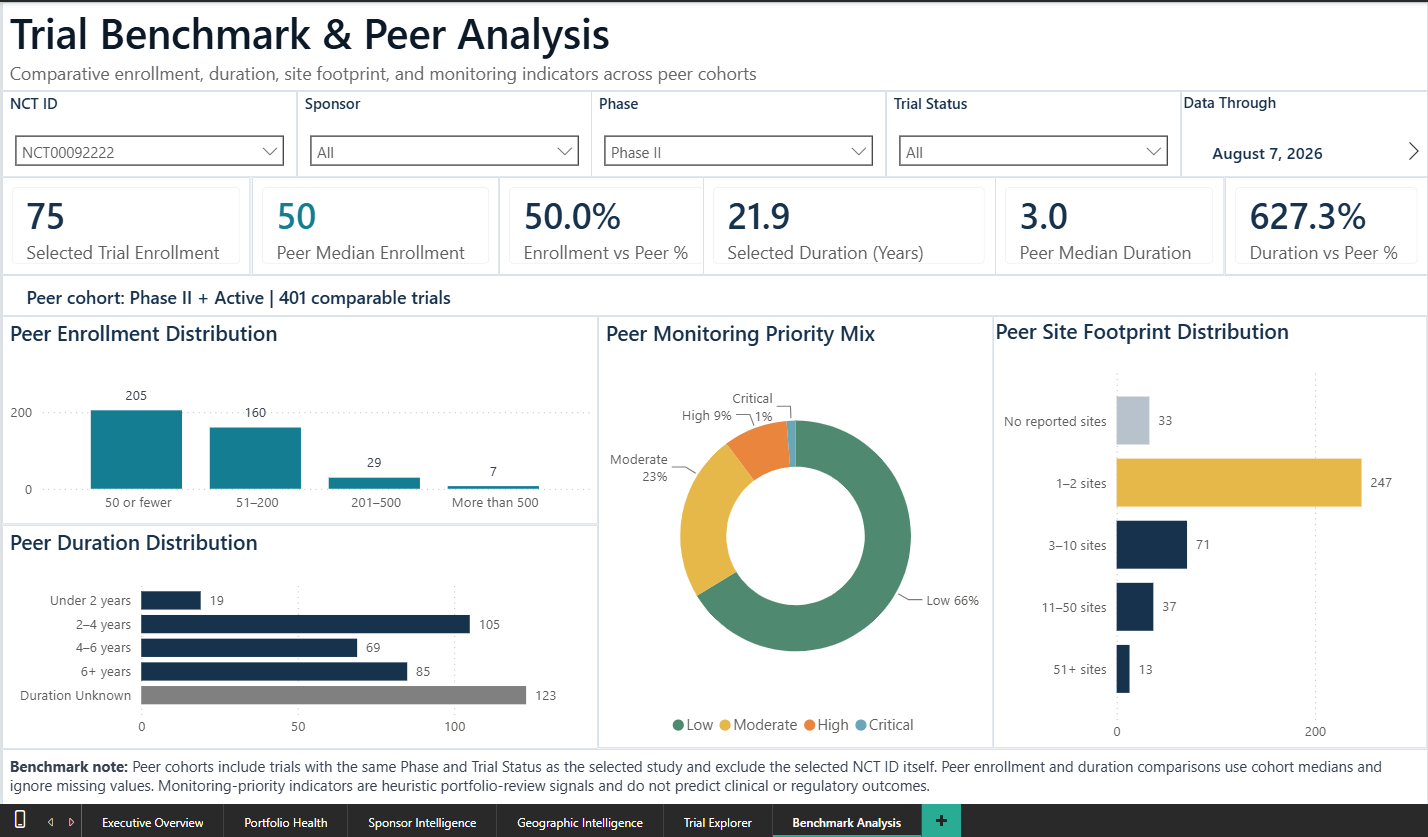

The dashboard page shown, as its layout file describes it:
{"tool":"powerbi","page":{"name":"Benchmark Analysis","canvas":[1280,720],"ordinal":5},"visuals":[{"type":"cardVisual","fields":{"Data":["_Measures.Selected Trial Enrollment"]},"box":[0,157.3,223.4,87.5],"z":0},{"type":"cardVisual","fields":{"Data":["_Measures.Peer Median Enrollment"]},"box":[224.3,157.3,222.5,87.5],"z":1000},{"type":"cardVisual","fields":{"Data":["_Measures.Enrollment vs Peer %"]},"box":[445.9,157.3,194.6,87.5],"z":2000},{"type":"cardVisual","fields":{"Data":["_Measures.Selected Trial Duration Display"]},"box":[629.3,157.3,262.5,87.5],"z":3000},{"type":"cardVisual","fields":{"Data":["_Measures.Peer Median Duration"]},"box":[891.8,157.3,205.7,87.5],"z":4000},{"type":"cardVisual","fields":{"Data":["_Measures.Duration vs Peer %"]},"box":[1097.5,157.3,182.5,87.5],"z":5000},{"type":"clusteredColumnChart","title":"Peer Enrollment Distribution","fields":{"Category":["PeerEnrollmentBands.Enrollment Band"],"Y":["_Measures.Peer Enrollment Band Count"]},"box":[0,282.1,535.3,187.1],"z":6000},{"type":"clusteredBarChart","title":"Peer Duration Distribution","fields":{"Y":["_Measures.Peer Duration Band Count"],"Category":["PeerDurationBands.Duration Band"]},"box":[0,469.2,535.3,201.1],"z":7000},{"type":"donutChart","title":"Peer Monitoring Priority Mix","fields":{"Category":["PeerPriority.Priority"],"Y":["_Measures.Peer Priority Count"]},"box":[535.3,282.1,354.7,388.2],"z":8000},{"type":"clusteredBarChart","title":"Peer Site Footprint Distribution","fields":{"Category":["PeerSiteBands.Site Band"],"Y":["_Measures.Peer Site Band Count"]},"box":[889.9,282.1,390.1,388.2],"z":9000},{"type":"slicer","title":"NCT ID","fields":{"Values":["Trials.nct_id"]},"box":[0,80.1,265.3,77.3],"z":10000},{"type":"slicer","title":"Sponsor","fields":{"Values":["Trials.sponsor"]},"box":[264.6,79.8,265,76.8],"z":11000},{"type":"slicer","title":"Phase","fields":{"Values":["Trials.phase_clean"]},"box":[529.1,79.8,265,76.8],"z":12000},{"type":"cardVisual","title":"Data Through","fields":{"Data":["_Measures.Latest Registry Update","_Measures.Duration vs Peer %"]},"box":[1058.2,79.8,221.8,76.8],"z":13000},{"type":"textbox","title":"Trial Benchmark & Peer Analysis","box":[0,0,1280,80.1],"z":14000},{"type":"textbox","box":[0,670.3,1280.9,50.3],"z":15000},{"type":"slicer","title":"Trial Status","fields":{"Values":["Trials.status_group"]},"box":[793.7,79.8,265,76.8],"z":16000},{"type":"cardVisual","fields":{"Data":["_Measures.Peer Cohort Description"]},"box":[0,244.8,1280,37.2],"z":17000}]}

Visuals, with their boxes on the page's 1280x720 design canvas (x1, y1, x2, y2). These are canvas units, not pixel positions in the 1428x837 screenshot, which may show the page scaled, cropped or inside an application window:
cardVisual - _Measures.Selected Trial Enrollment: (0,157,223,245)
cardVisual - _Measures.Peer Median Enrollment: (224,157,447,245)
cardVisual - _Measures.Enrollment vs Peer %: (446,157,640,245)
cardVisual - _Measures.Selected Trial Duration Display: (629,157,892,245)
cardVisual - _Measures.Peer Median Duration: (892,157,1098,245)
cardVisual - _Measures.Duration vs Peer %: (1098,157,1280,245)
"Peer Enrollment Distribution" clusteredColumnChart: (0,282,535,469)
"Peer Duration Distribution" clusteredBarChart: (0,469,535,670)
"Peer Monitoring Priority Mix" donutChart: (535,282,890,670)
"Peer Site Footprint Distribution" clusteredBarChart: (890,282,1280,670)
"NCT ID" slicer: (0,80,265,157)
"Sponsor" slicer: (265,80,530,157)
"Phase" slicer: (529,80,794,157)
"Data Through" cardVisual: (1058,80,1280,157)
"Trial Benchmark & Peer Analysis" textbox: (0,0,1280,80)
textbox: (0,670,1281,721)
"Trial Status" slicer: (794,80,1059,157)
cardVisual - _Measures.Peer Cohort Description: (0,245,1280,282)
